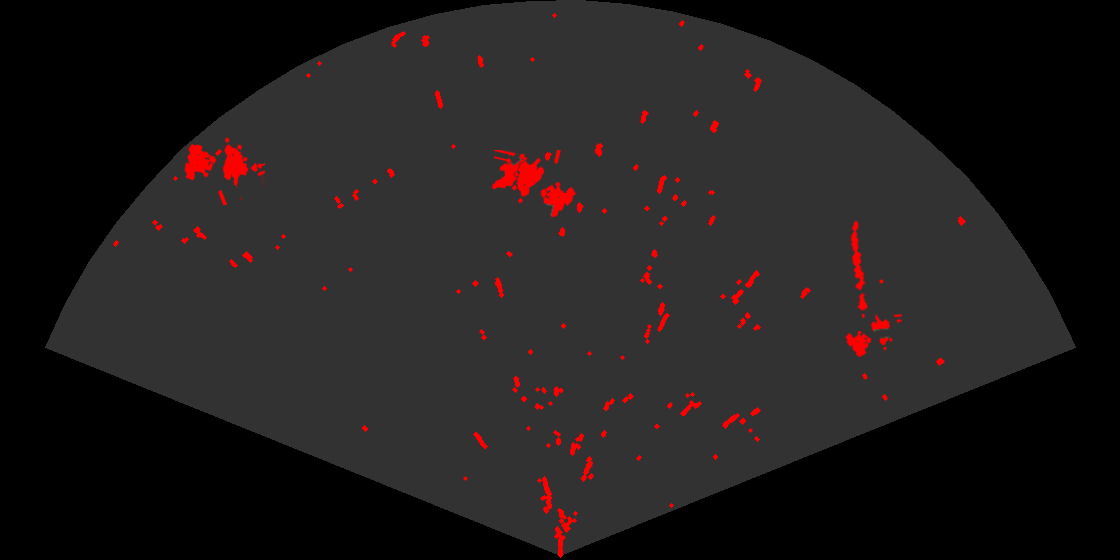AUV: (490, 152, 529, 191)
cage: (494, 150, 578, 219), (183, 136, 265, 205), (844, 314, 902, 358)
chain: (849, 219, 869, 313)
